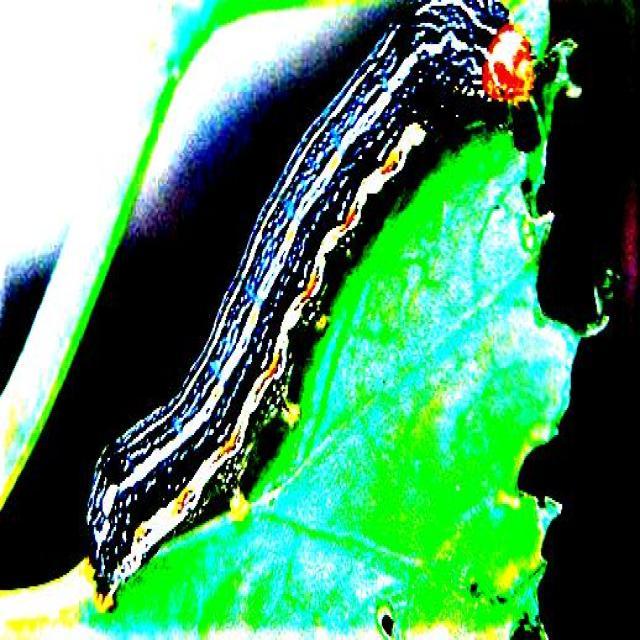Armyworm: (73, 1, 535, 611)
Armyworm_damage: (360, 578, 410, 640)
